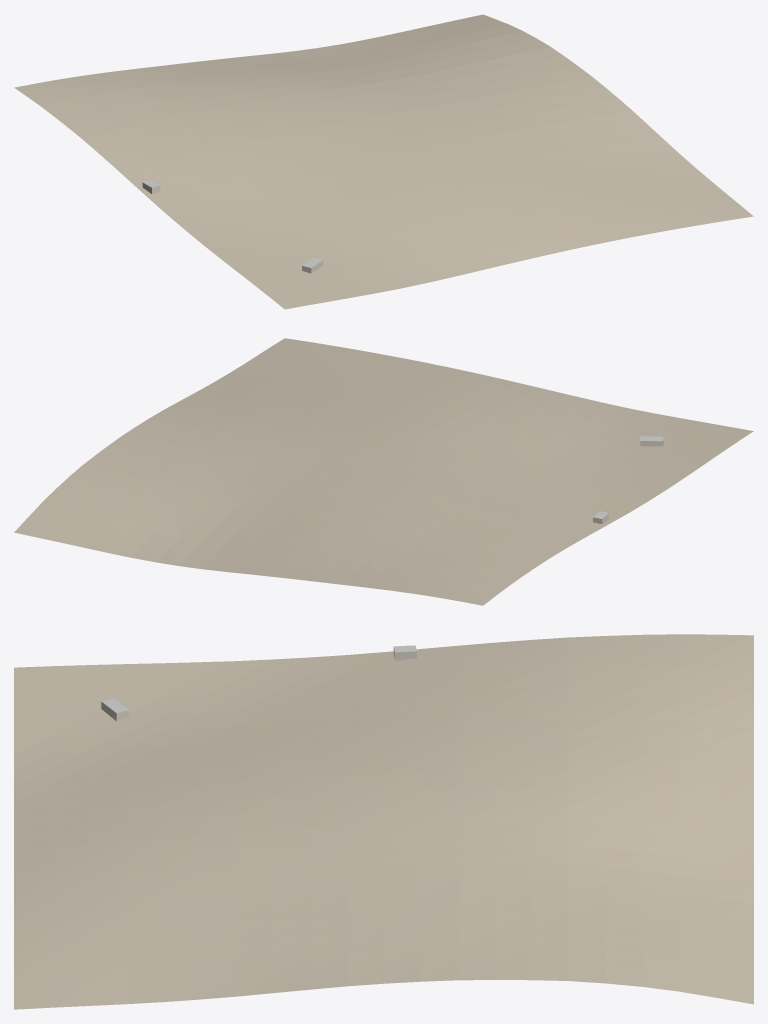
The model's file is bolak_14_-9.glb.
3 views of the same model, one above another, from view 1: azimuth 30°, elevation 25°; view 2: azimuth 150°, elevation 25°; view 3: azimuth 270°, elevation 25° (orthographic). The views are drawn at different scales.
Visible parts, largest first — view 1: Yer_Tuproq-col; view 2: Yer_Tuproq-col; view 3: Yer_Tuproq-col.
Part boxes in pixels (left/top/right/bottom): Yer_Tuproq-col: left=14, top=14, right=753, bottom=309; Yer_Tuproq-col: left=14, top=338, right=753, bottom=605; Yer_Tuproq-col: left=14, top=634, right=753, bottom=1009.
Bounding box in the file's own units: 400 × 37.37 × 400.
